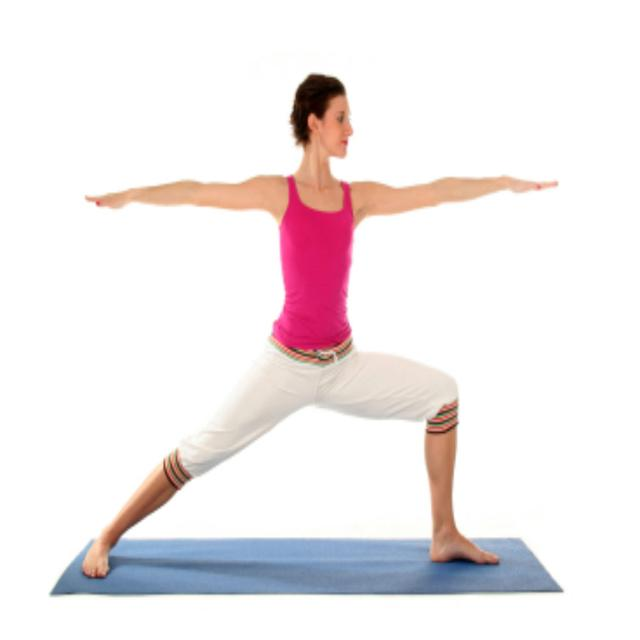Warrior_II: (60, 69, 566, 584)
